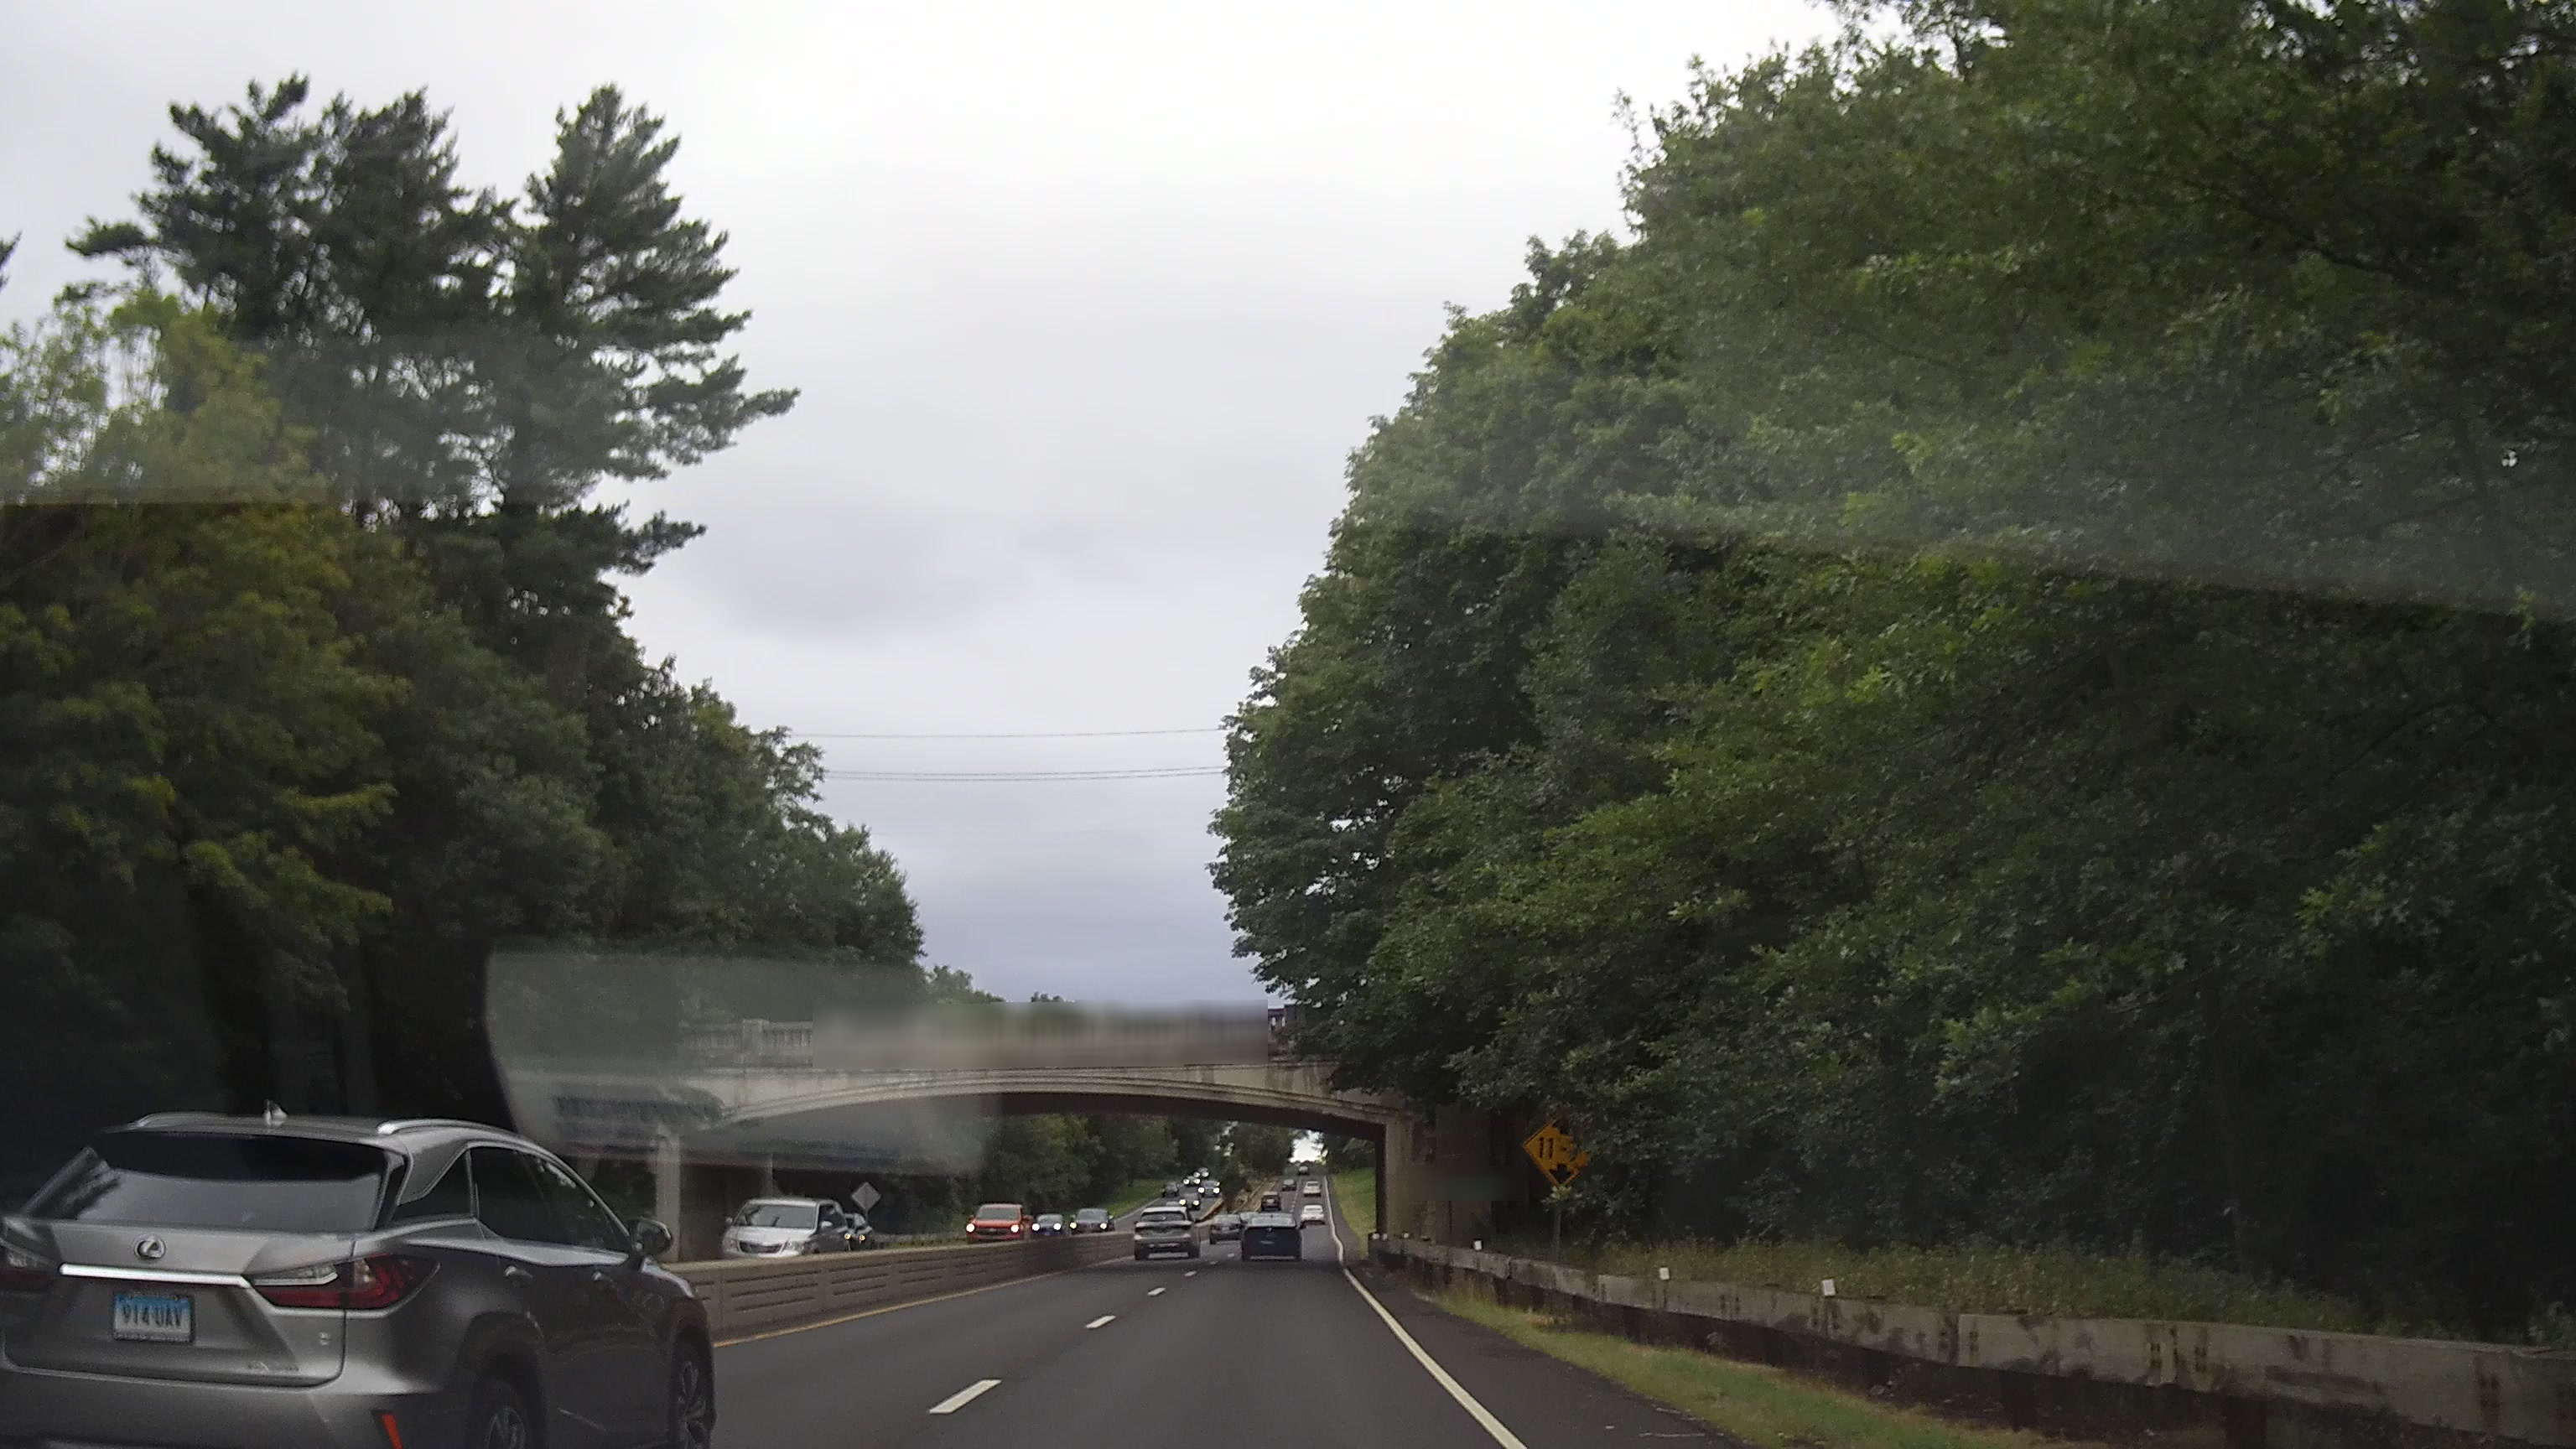low-clearance-sign: (1522, 1106, 1603, 1196)
